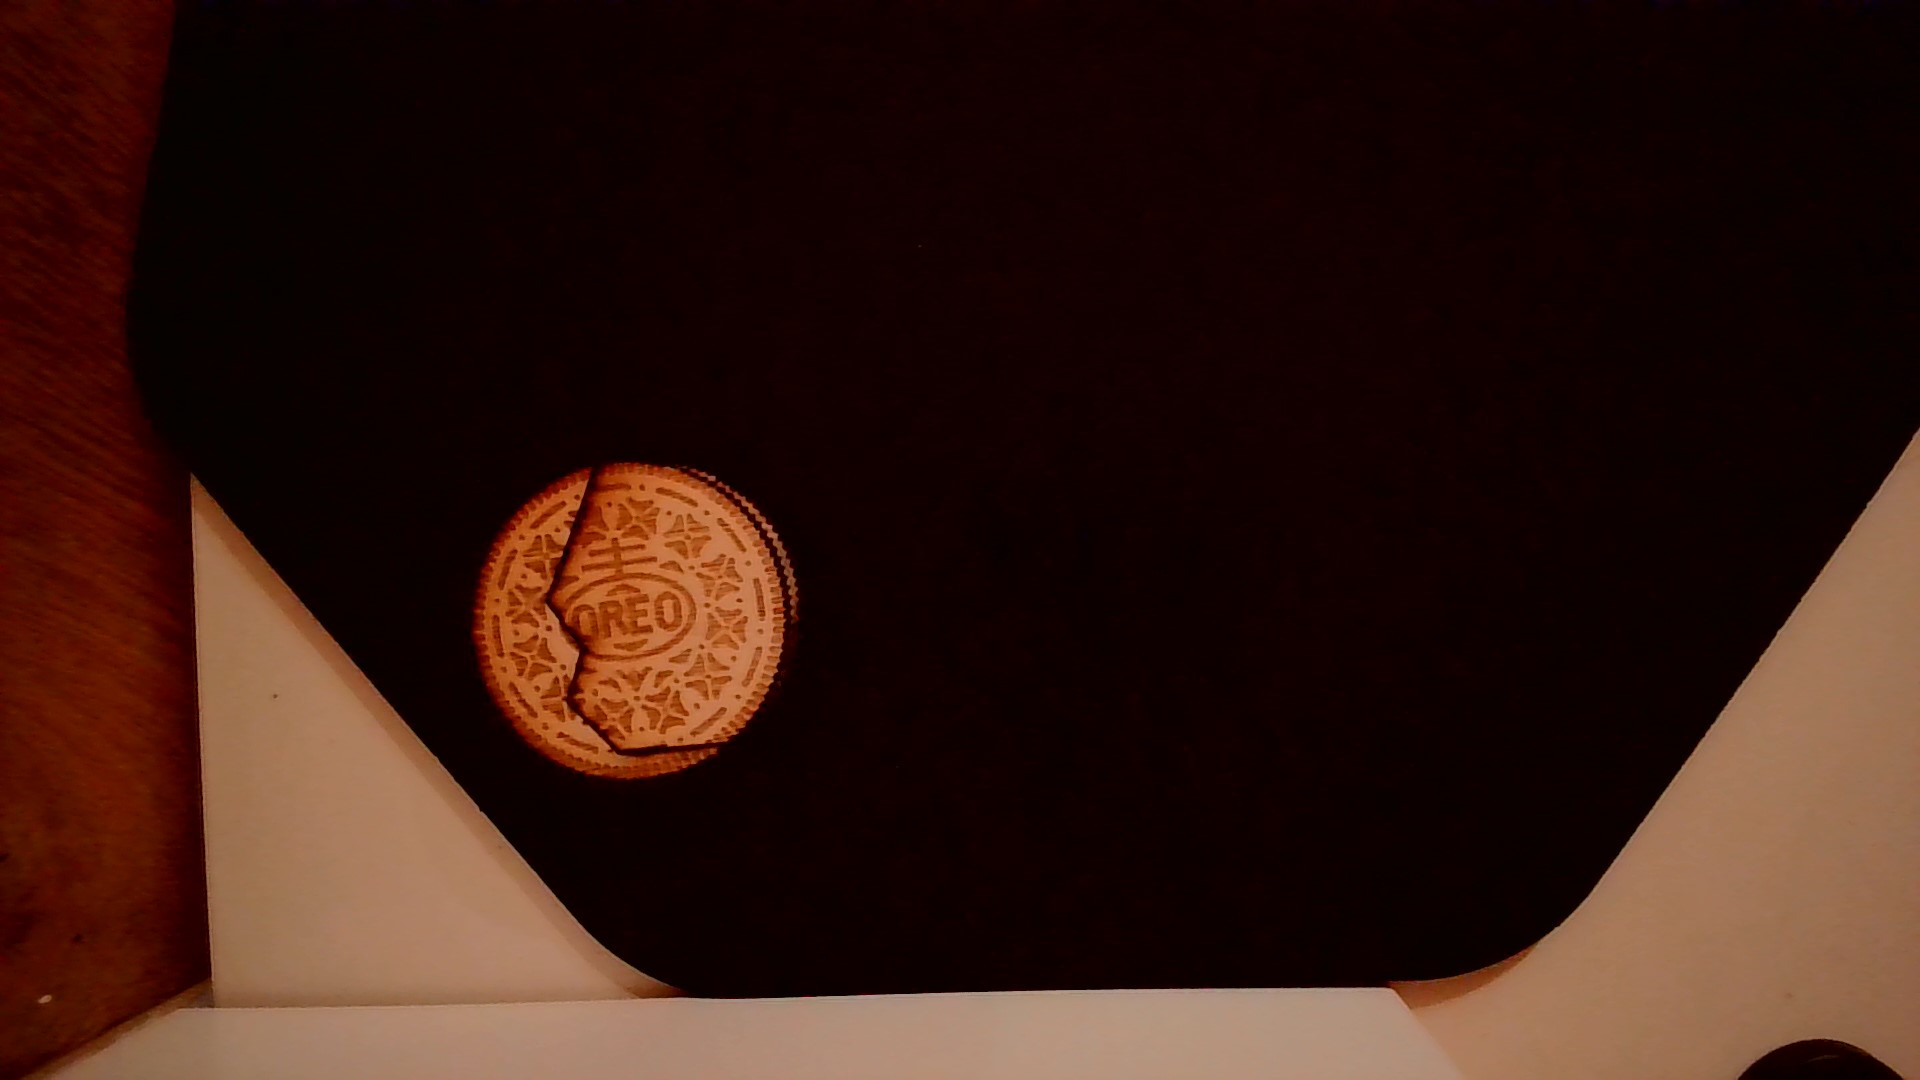Fissure: (541, 452, 737, 764)
Oréo: (465, 456, 806, 786)
